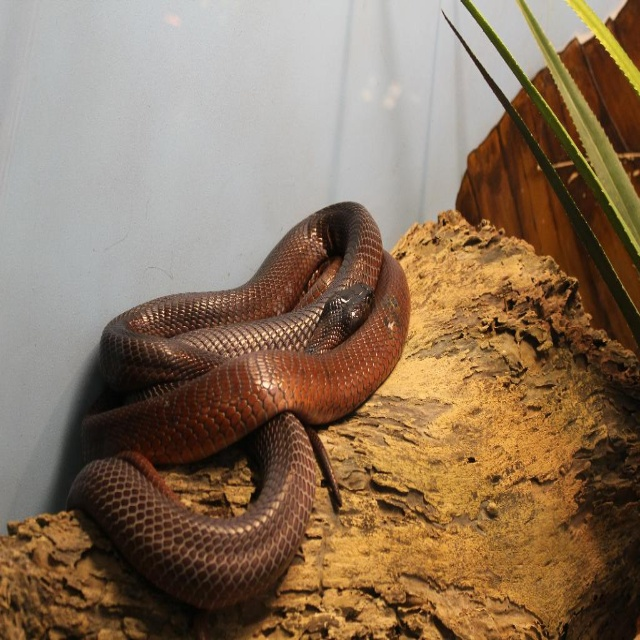Snake: (64, 193, 412, 617)
